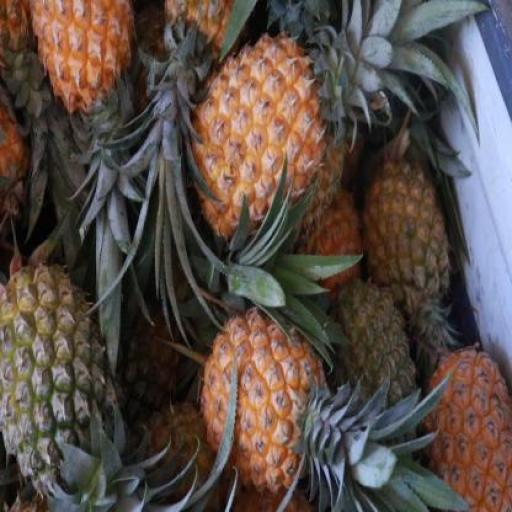------------------------------: (0, 262, 119, 486), (368, 154, 454, 326)
Pineapple - v8 v1: (188, 37, 338, 247), (199, 303, 320, 488), (428, 349, 511, 512)
